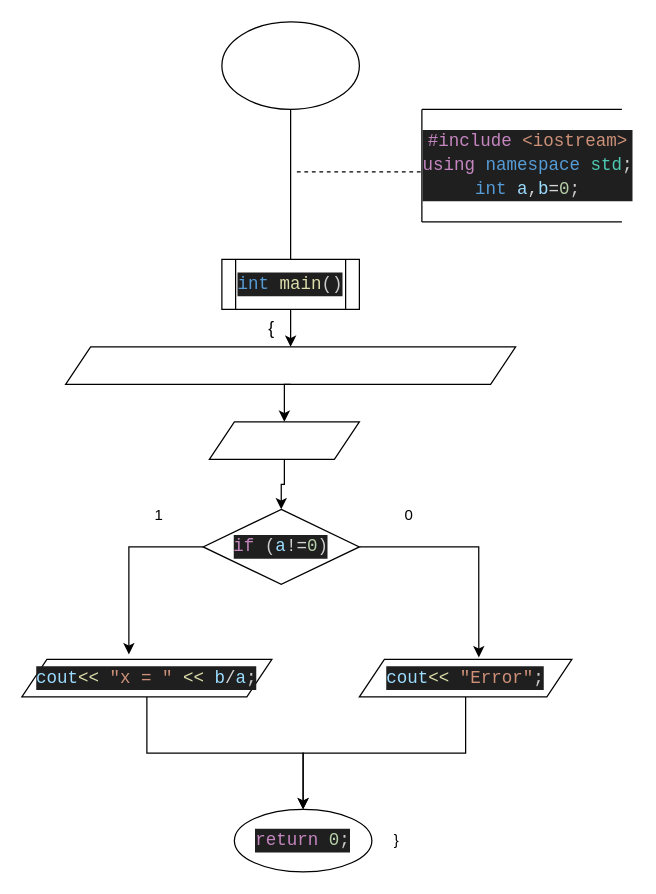
Some shapes in this 656 by 894 pixel diagram are drawn without their labels. Here are the shapes that lost their labels. From the top down, the centre of each, then its label:
(290,65): Начало
(290,365): cout << "Enter a and b values for ax=b: " ;
(283,440): cin >> a >> b ;
